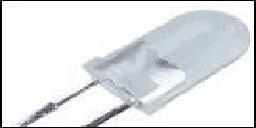LED: (73, 11, 253, 128)
